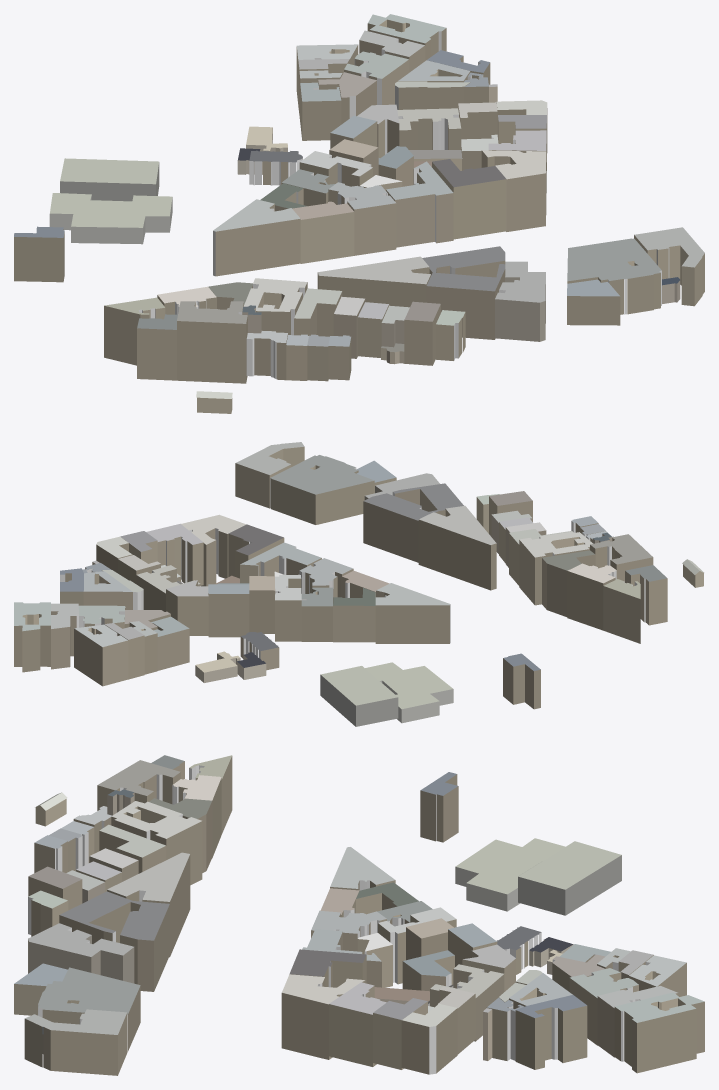
The picture shows the model from 3 angles, top to bottom: view 1: azimuth 30°, elevation 25°; view 2: azimuth 150°, elevation 25°; view 3: azimuth 270°, elevation 25°; orthographic projection. The views are drawn at different scales.
Parts seen in each view (by area): view 1: tuile; view 2: tuile; view 3: tuile.
Boxes of the visible parts, x1,y1,x2,y2 form: tuile: (14,14,704,413); tuile: (14,442,704,726); tuile: (14,755,704,1075).
Size of the model in its own units: 263 by 29.97 by 279.
